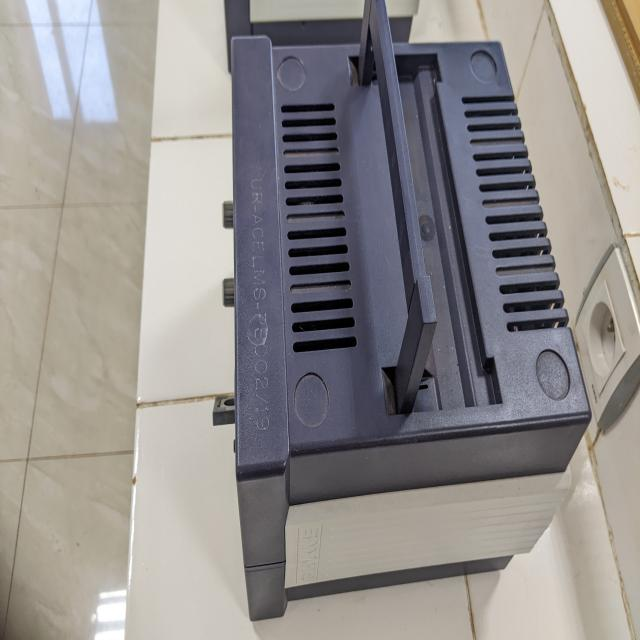Netzgerat Universal Power Supply: (209, 8, 595, 624)
